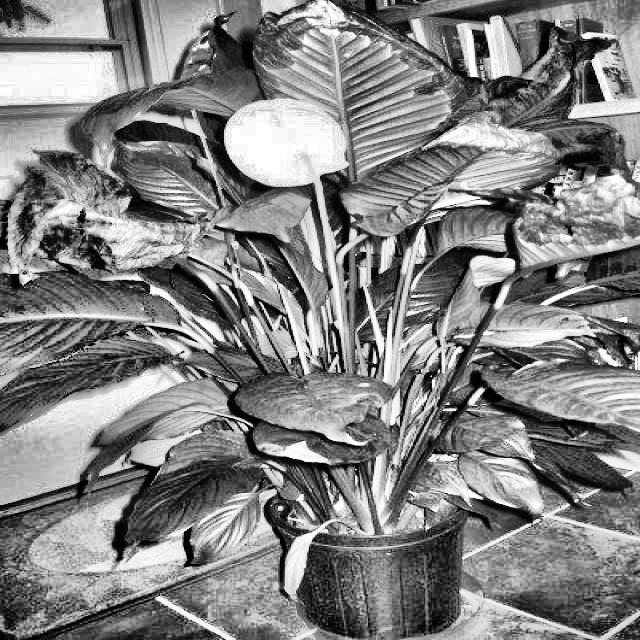plants: (0, 3, 639, 639), (248, 0, 458, 181), (2, 144, 210, 282), (512, 171, 638, 280), (278, 506, 345, 604), (446, 321, 595, 361), (115, 430, 214, 472)
